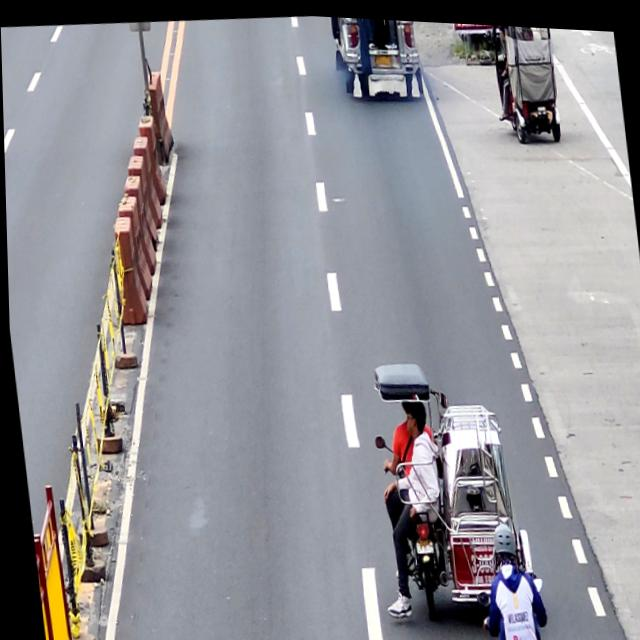E-bike: (488, 20, 563, 145)
Jeep: (331, 13, 424, 97)
License-Plate: (410, 532, 431, 552)
Tricycle: (359, 344, 538, 625)
